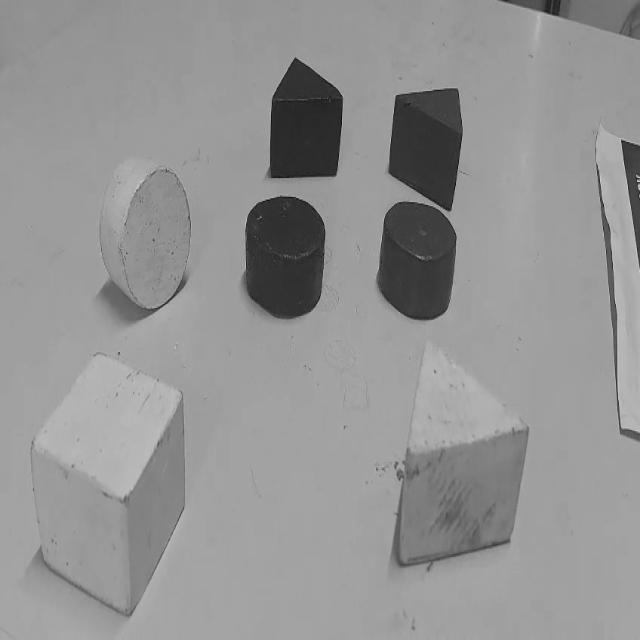bcircle: (244, 196, 327, 320)
btriangle: (270, 58, 344, 183)
rcircle: (378, 198, 458, 323)
rtriangle: (388, 87, 464, 213)
ycircle: (97, 155, 191, 311)
ycube: (31, 347, 188, 615)
ytriangle: (395, 338, 528, 565)
